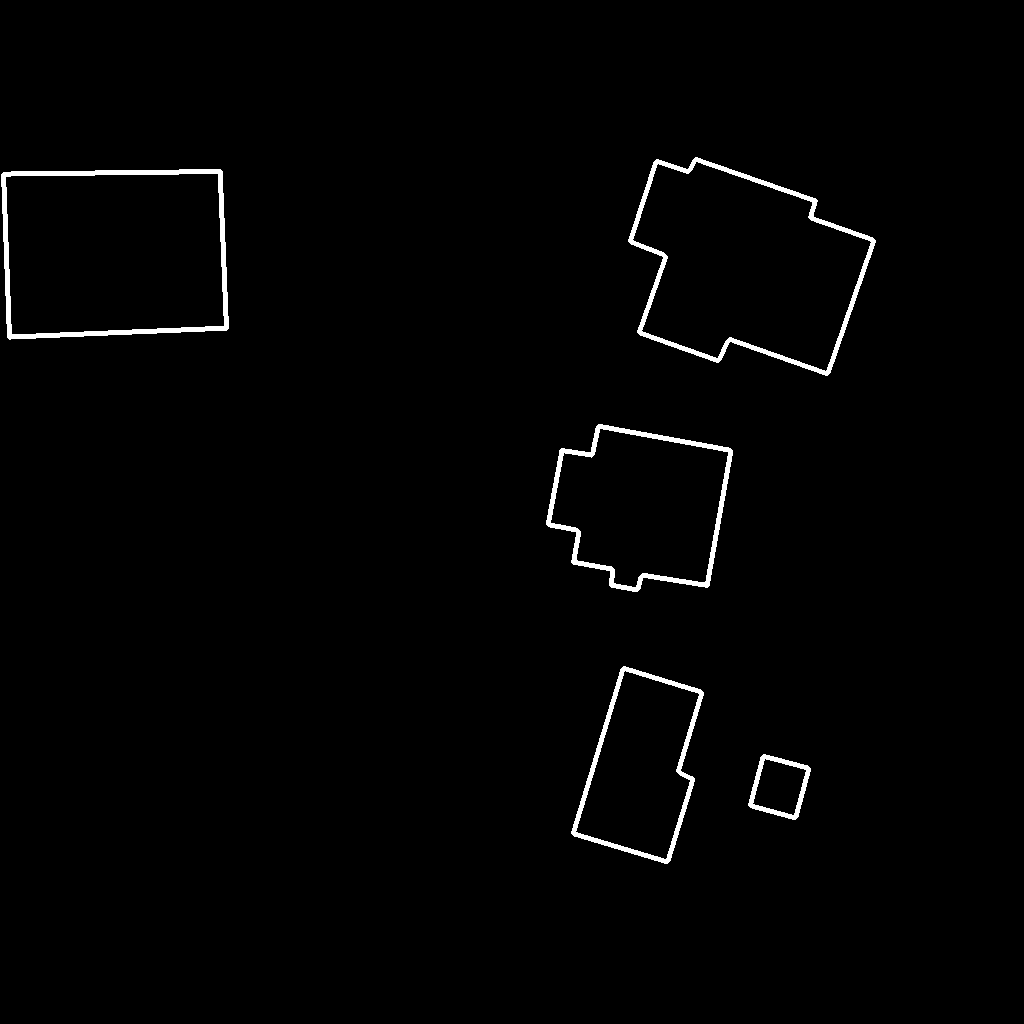building: (630, 159, 875, 375), (3, 171, 228, 338), (548, 426, 732, 591), (573, 668, 703, 863), (750, 756, 810, 819)
